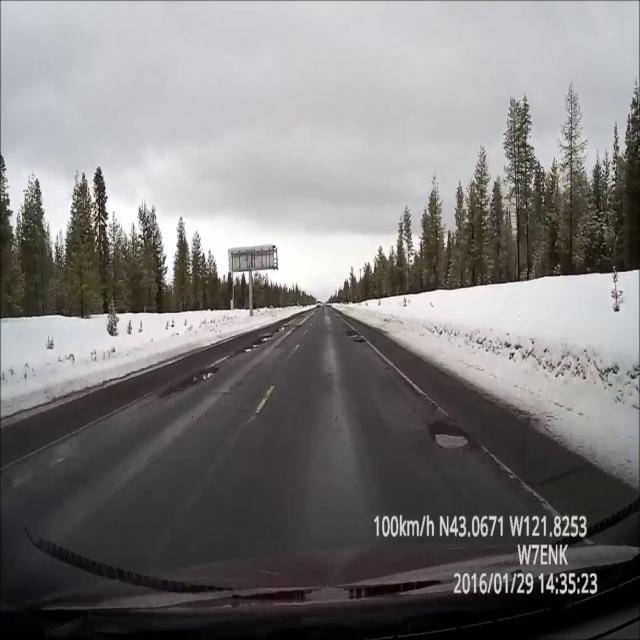Pothole: (161, 366, 221, 401), (433, 427, 470, 450), (244, 344, 261, 352), (352, 337, 366, 345), (260, 335, 273, 342), (348, 330, 360, 337), (278, 326, 288, 331)
